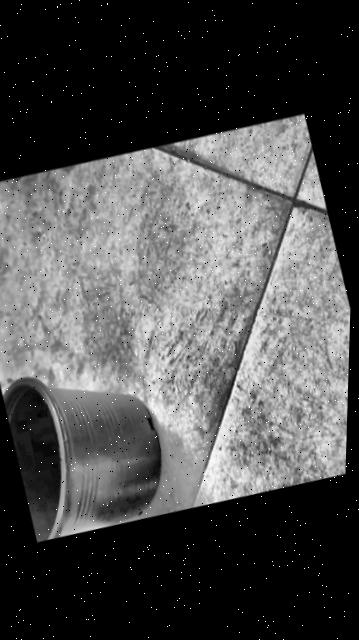pot: (0, 346, 176, 547)
